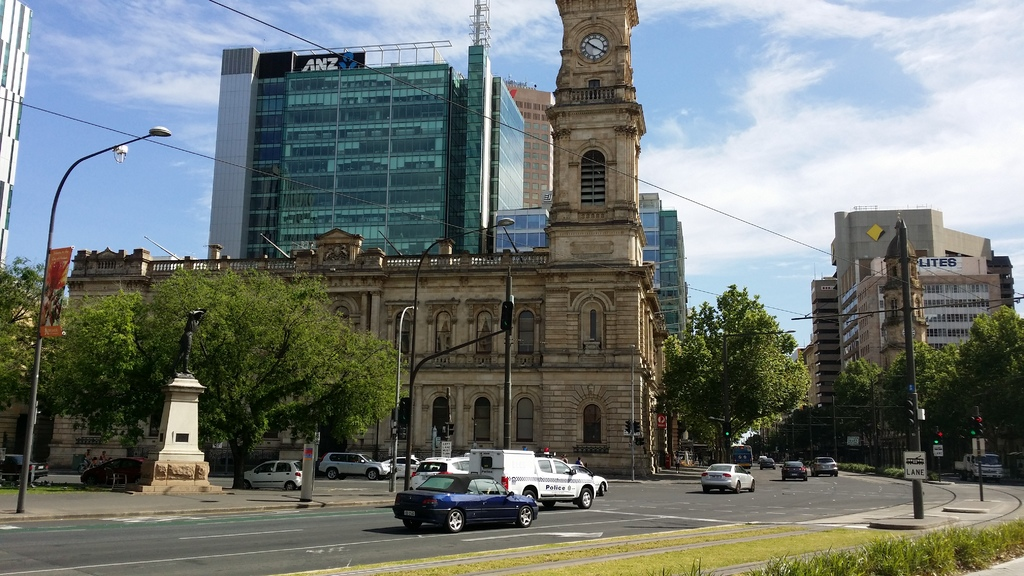mobil: (392, 470, 540, 534), (316, 447, 391, 481), (703, 463, 758, 494), (780, 458, 810, 481)
